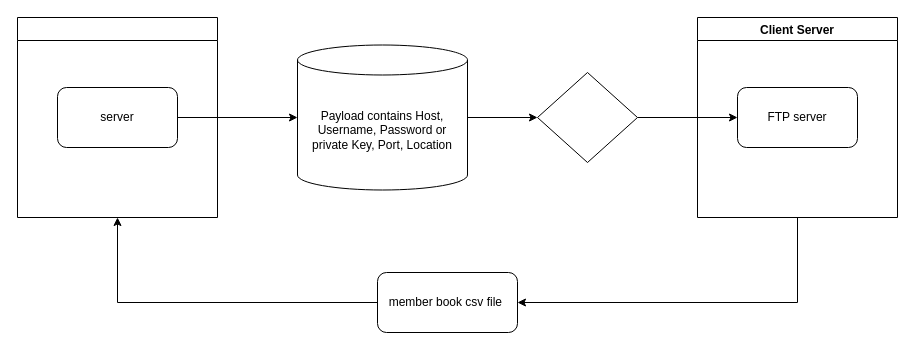
This 915x350 diagram has some shape labels left out. Here are the shapes that lost their labels. From the top down, the box of each, then its label:
(16, 16, 218, 218): Veris
(536, 72, 638, 162): Authentication
